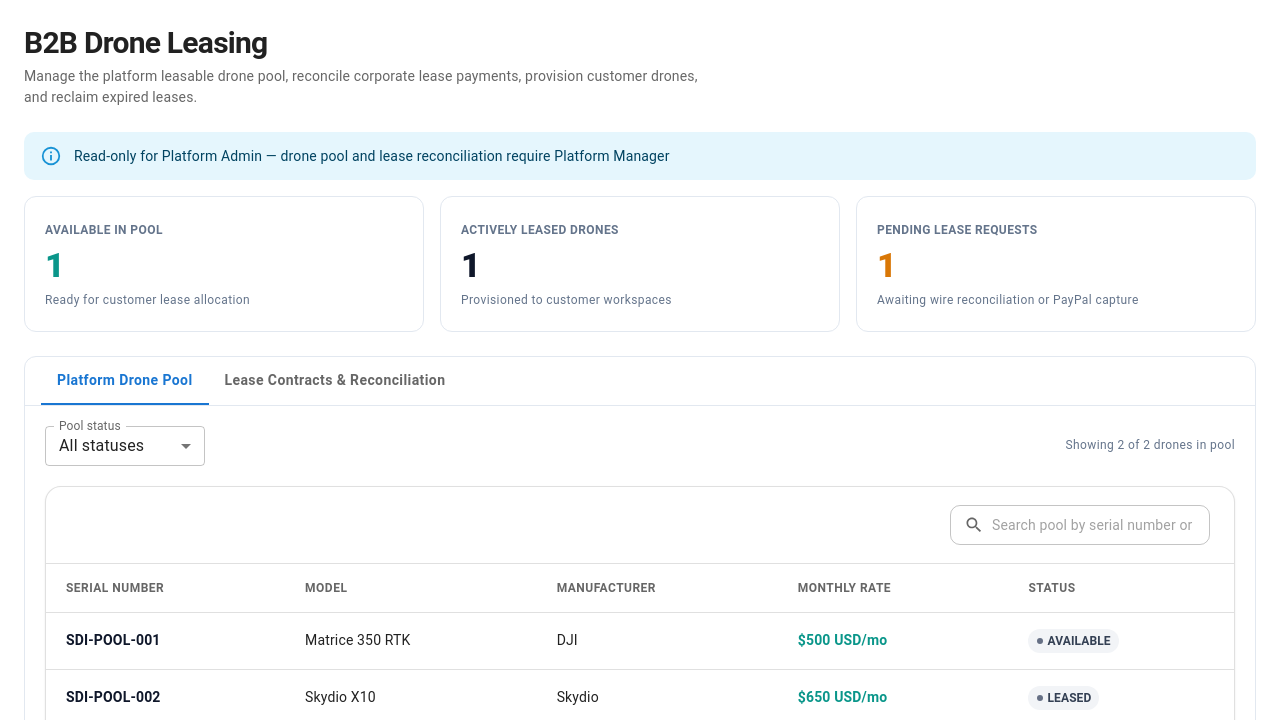
Test: PlatformDroneLeasingPage › renders read-only view for ADMIN and hides pool/lease write controls
Expected: the text "SDI-POOL-001" is shown, [66,632,160,648]
Expected: the text "Read-only for Platform Admin — drone pool and lease reconciliation require Platform Manager" is shown, [74,148,670,164]
Click the tab "Lease Contracts & Reconciliation".
click(335, 380)  # box [208,356,461,404]
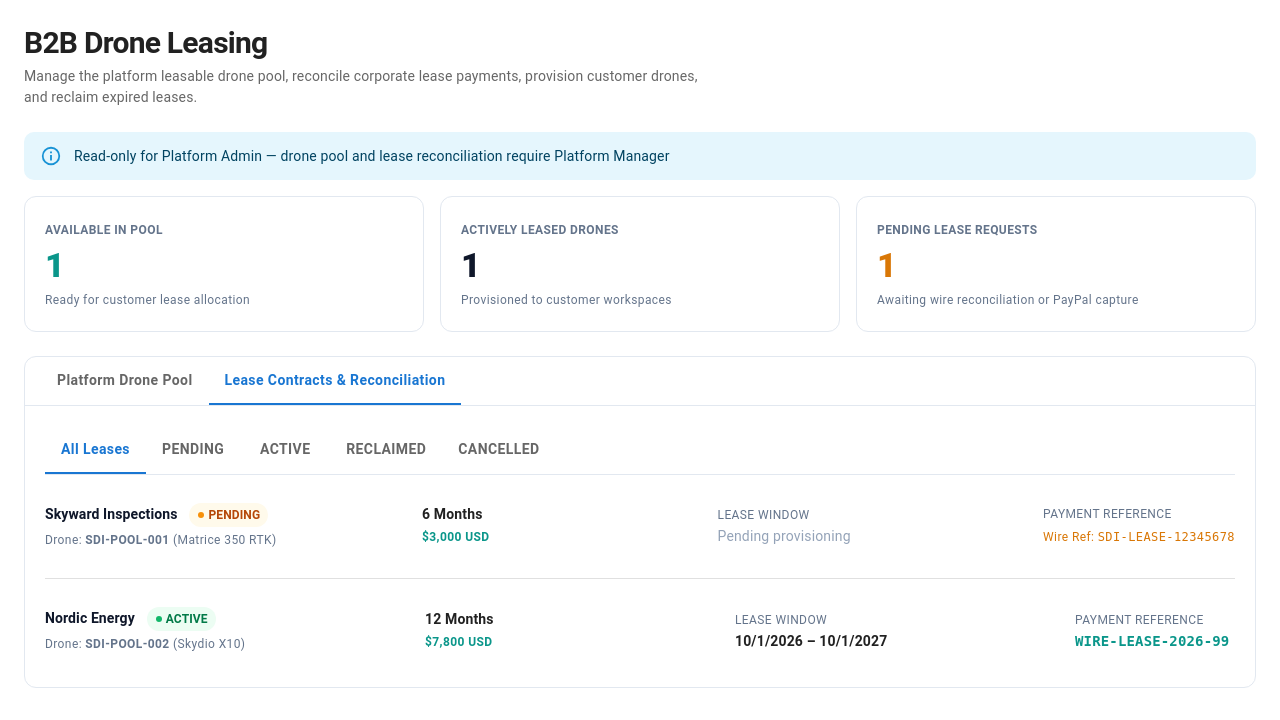
Result: the heading "Skyward Inspections" is shown at [45,504,178,526]
